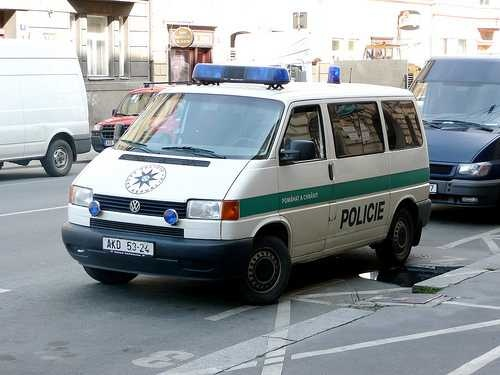Police Van: (65, 32, 445, 316)
